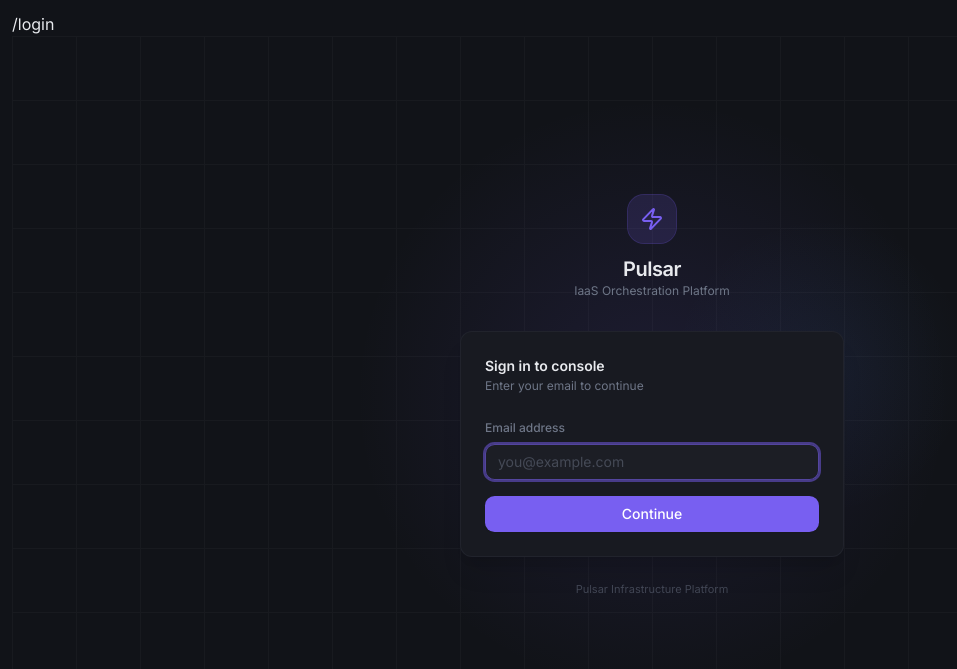
it: LoginPage › shows the server error for wrong credentials
Type "ada@example.test" into the field labelled "Email address". click: (652, 462)
box: x1=485 y1=444 x2=819 y2=480
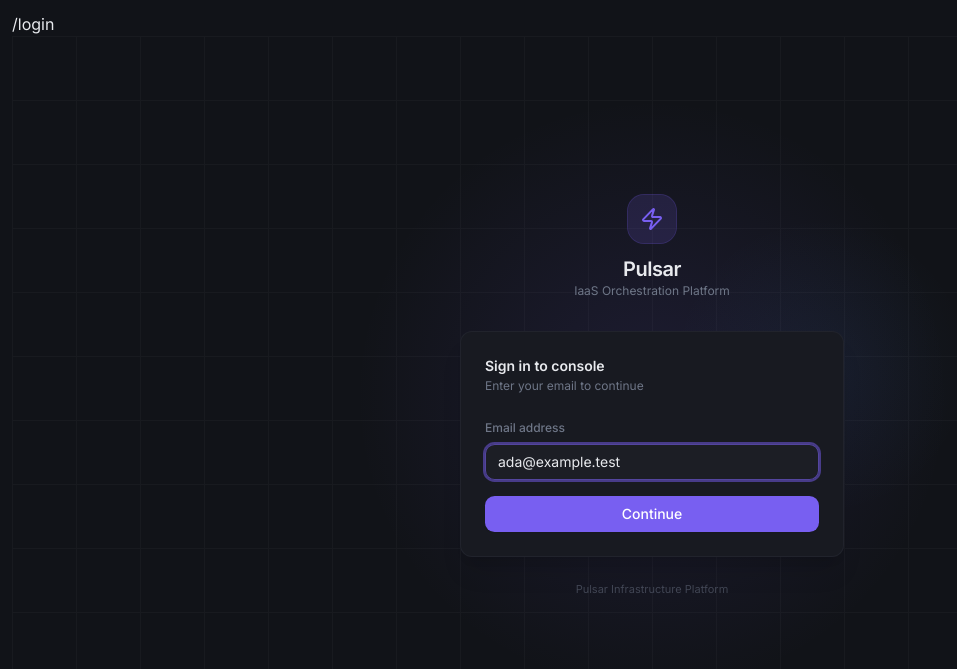
Click the button "Continue". click: (652, 514)
box: x1=485 y1=496 x2=819 y2=532
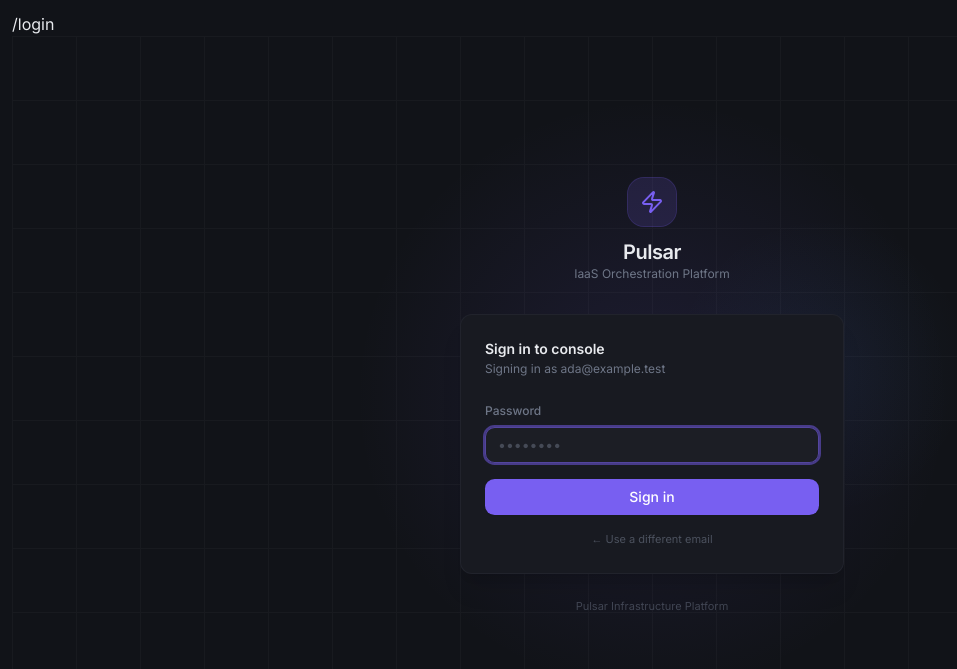
Result: the password field labelled "Password" is shown
Type "wrong" into the password field labelled "Password". click: (652, 445)
box: x1=485 y1=427 x2=819 y2=463
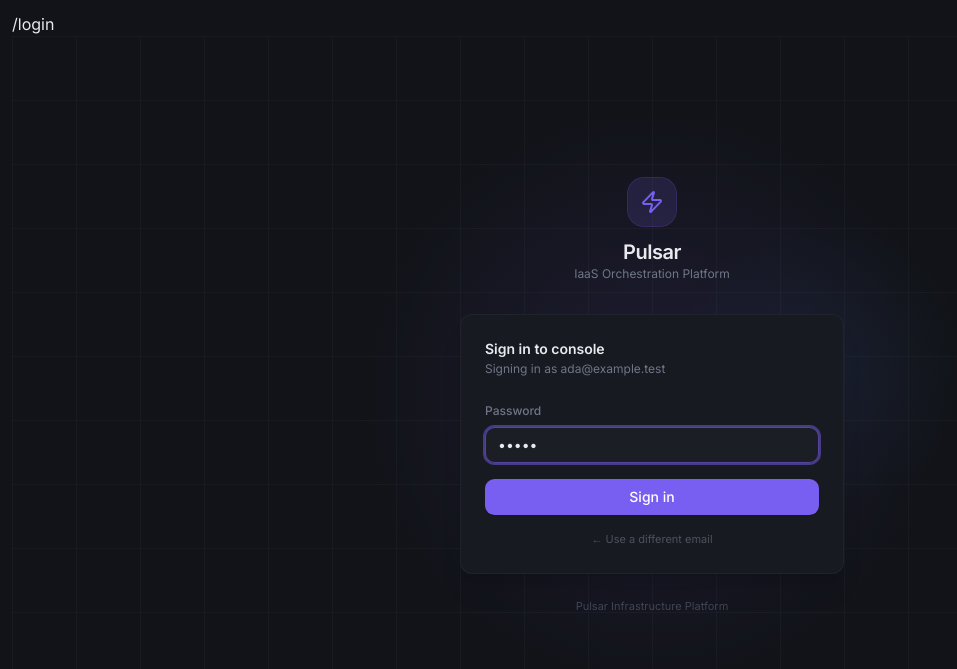
Click the button "Sign in". click: (652, 497)
box: x1=485 y1=479 x2=819 y2=515
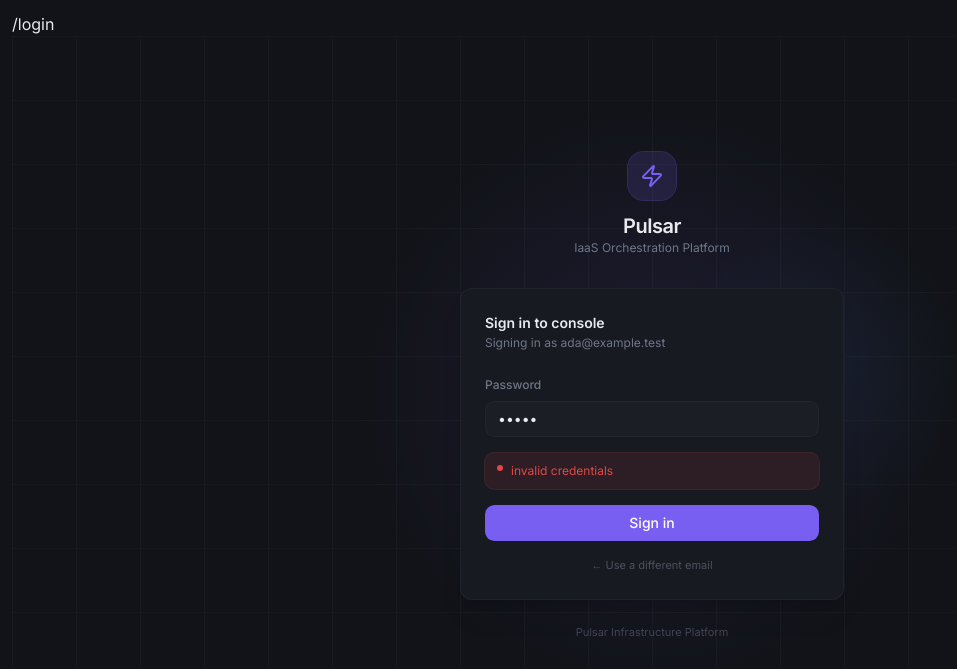
Expected: the text with test id "location" reads "/login", x1=12 y1=14 x2=54 y2=34
Result: the text "invalid credentials" is shown at x1=485 y1=453 x2=819 y2=489
